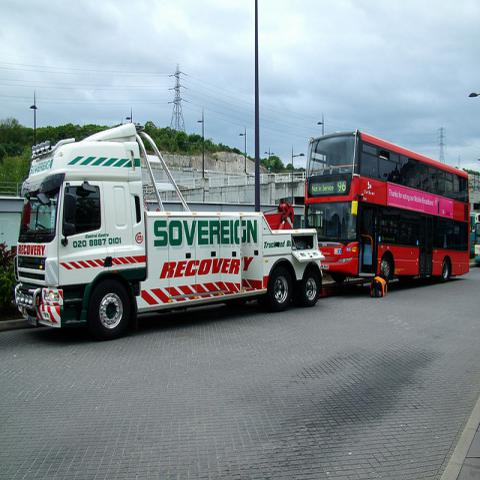bus: (292, 130, 474, 288)
truck: (13, 124, 326, 333)
